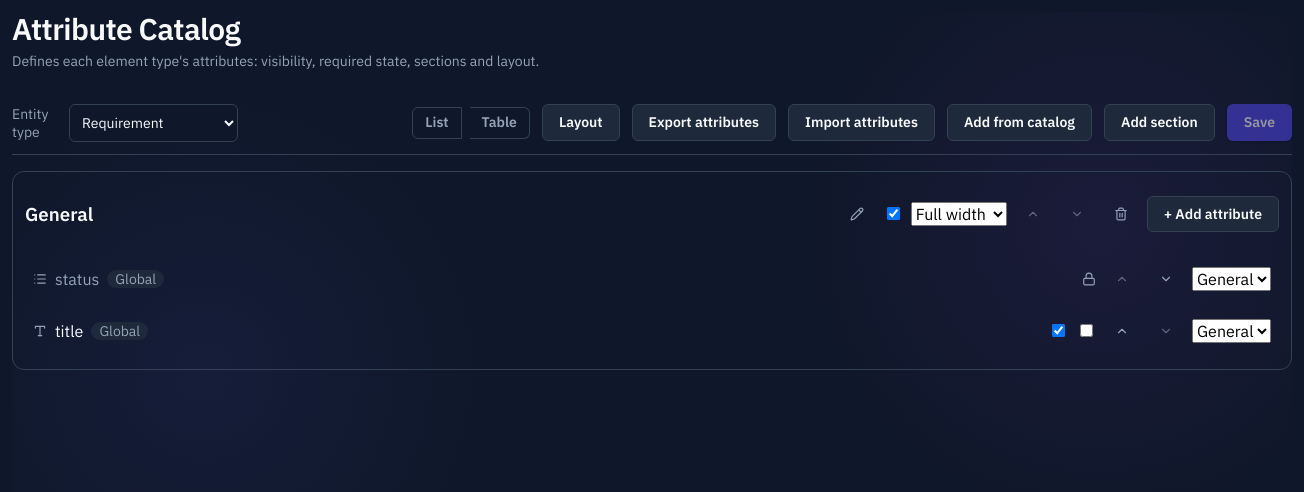
AttributeEditorPage › refuses to delete a section that still holds attributes
This screenshot has width=1304, height=492.
What coordinates should you click on to do the following:
click the button with test id "attribute-section-general-delete"
I would click on:
 (1121, 214)
Its box is [1103, 196, 1139, 232].
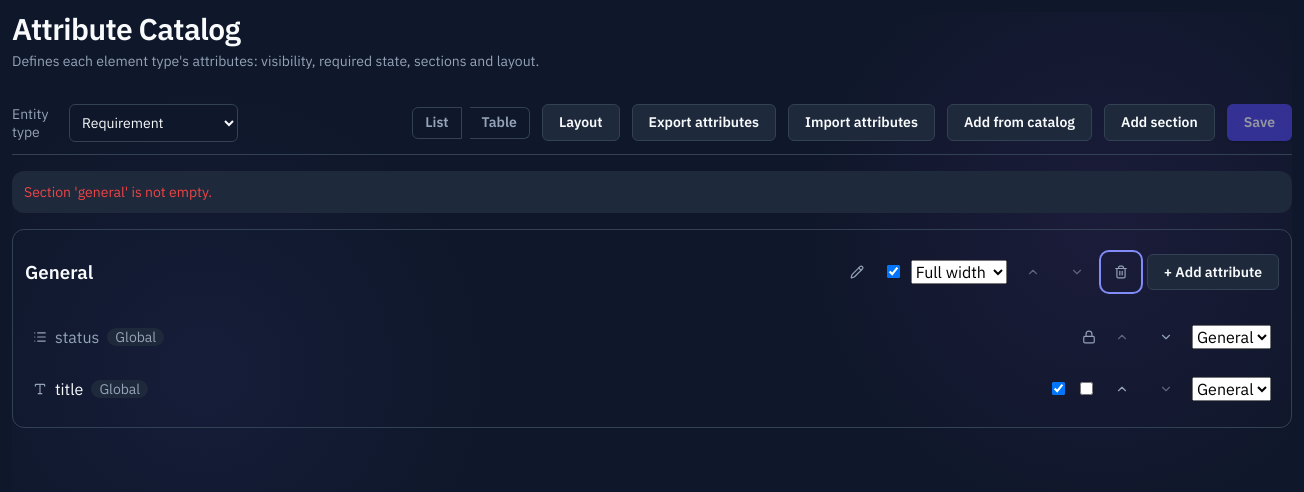
Expected: the element with test id "attribute-section-general" is shown, [12, 228, 1292, 428]
Expected: the message with test id "attribute-editor-error" shows "not empty", [24, 182, 212, 200]
